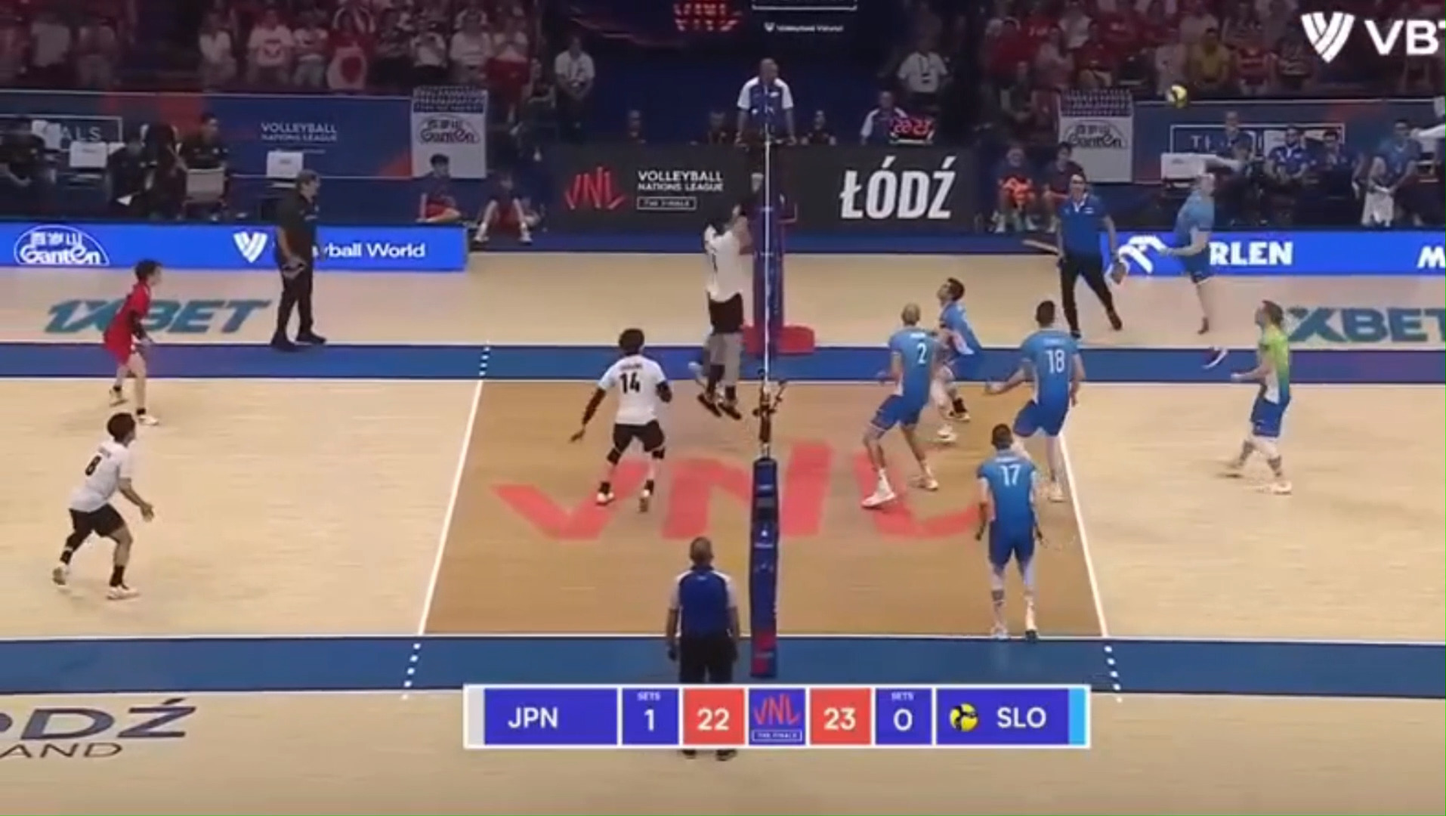ball: (1165, 83, 1188, 107)
player: (986, 300, 1083, 501), (861, 304, 941, 508), (975, 424, 1041, 639), (1161, 156, 1240, 335), (1228, 299, 1291, 494), (932, 277, 982, 442)
player 1: (51, 411, 154, 599), (571, 328, 672, 510), (699, 205, 752, 419), (103, 259, 161, 425), (689, 225, 723, 382)
referee: (664, 536, 740, 683), (729, 58, 796, 223), (1056, 173, 1122, 339), (271, 170, 326, 350)
